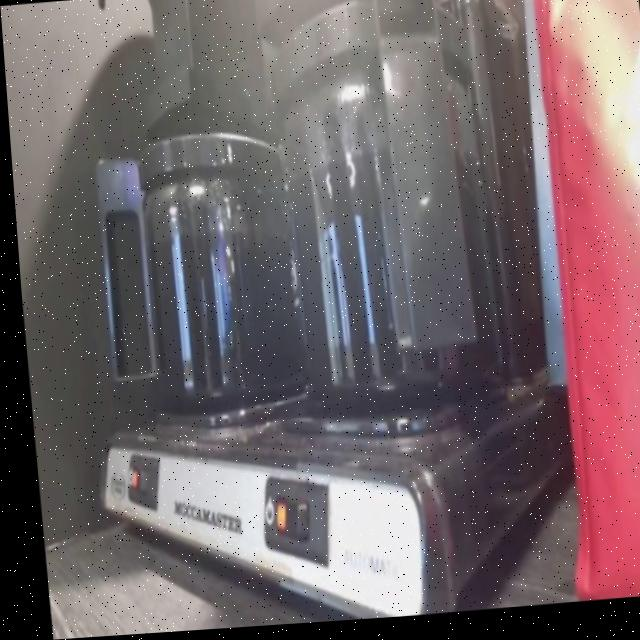coffee: (260, 0, 500, 421), (125, 129, 306, 412)
